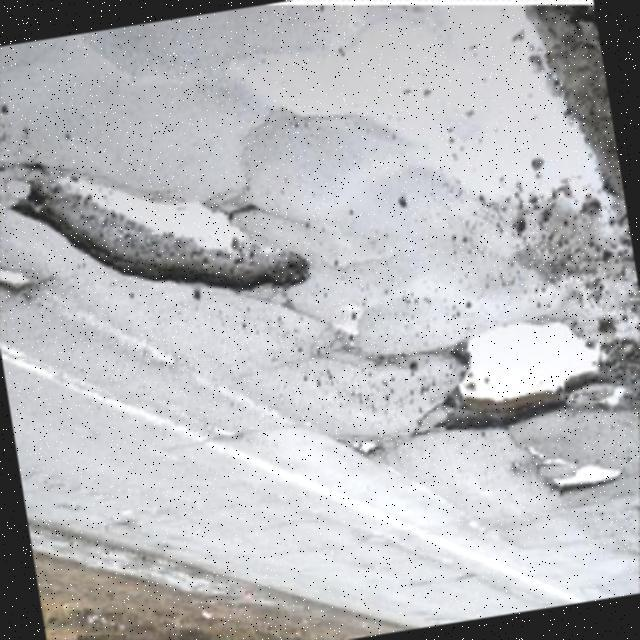Pothole: (8, 163, 312, 291), (436, 321, 640, 431), (546, 462, 622, 496)
